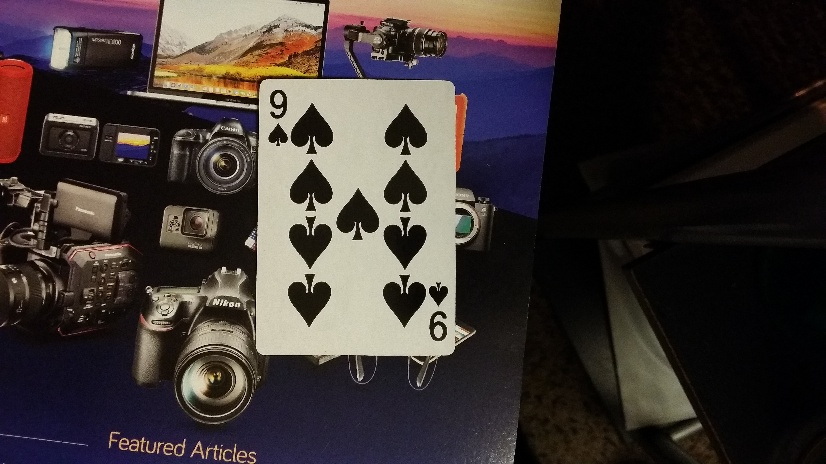S9: (264, 84, 292, 152), (426, 277, 451, 343)
